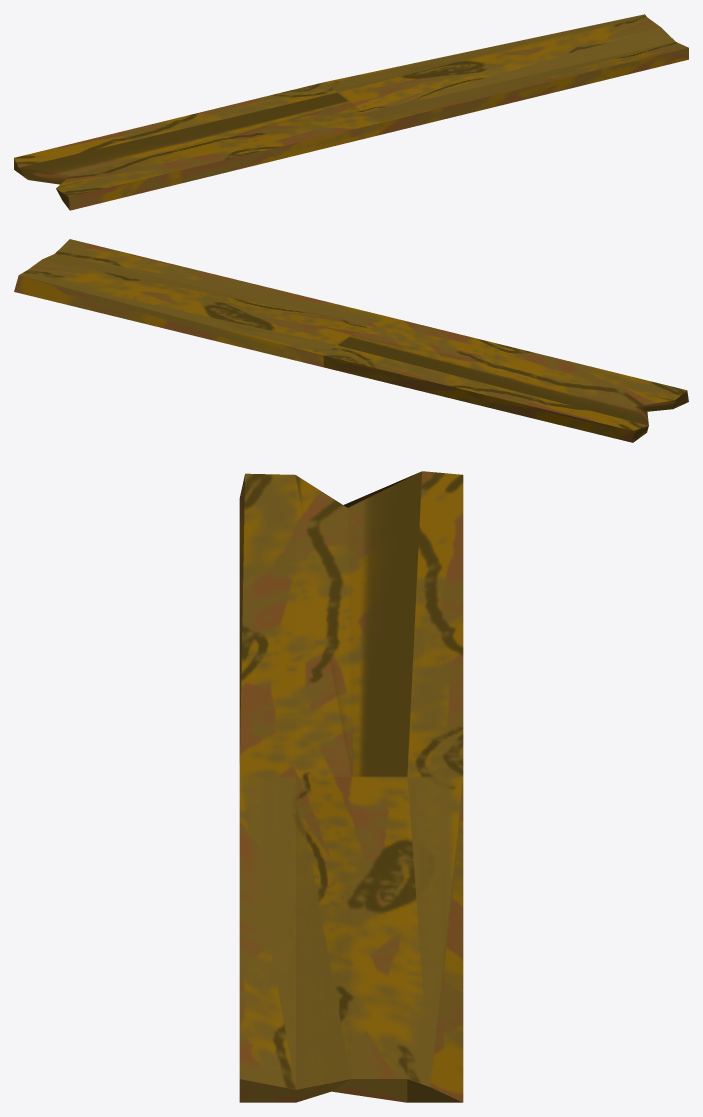
Rendered from Tabla.fbx.
The picture shows the model from 3 angles, top to bottom: view 1: azimuth 30°, elevation 25°; view 2: azimuth 150°, elevation 25°; view 3: azimuth 270°, elevation 25°; orthographic projection. The views are drawn at different scales.
Parts seen in each view (by area): view 1: Cubo; view 2: Cubo; view 3: Cubo.
Boxes of the visible parts, bbox=[...] form: Cubo: bbox=[14, 14, 688, 210]; Cubo: bbox=[14, 239, 688, 442]; Cubo: bbox=[239, 471, 463, 1102].
Bounding box in the file's own units: 749 × 14.36 × 115.
